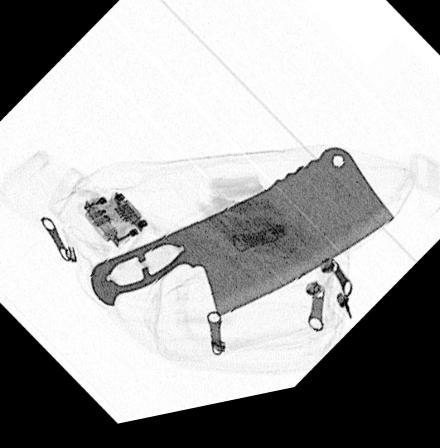Knife: (88, 157, 397, 326)
